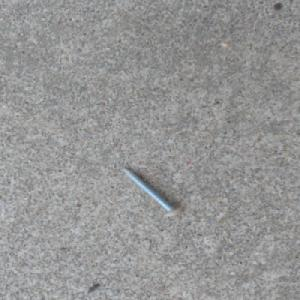Screw: (119, 166, 184, 217)
